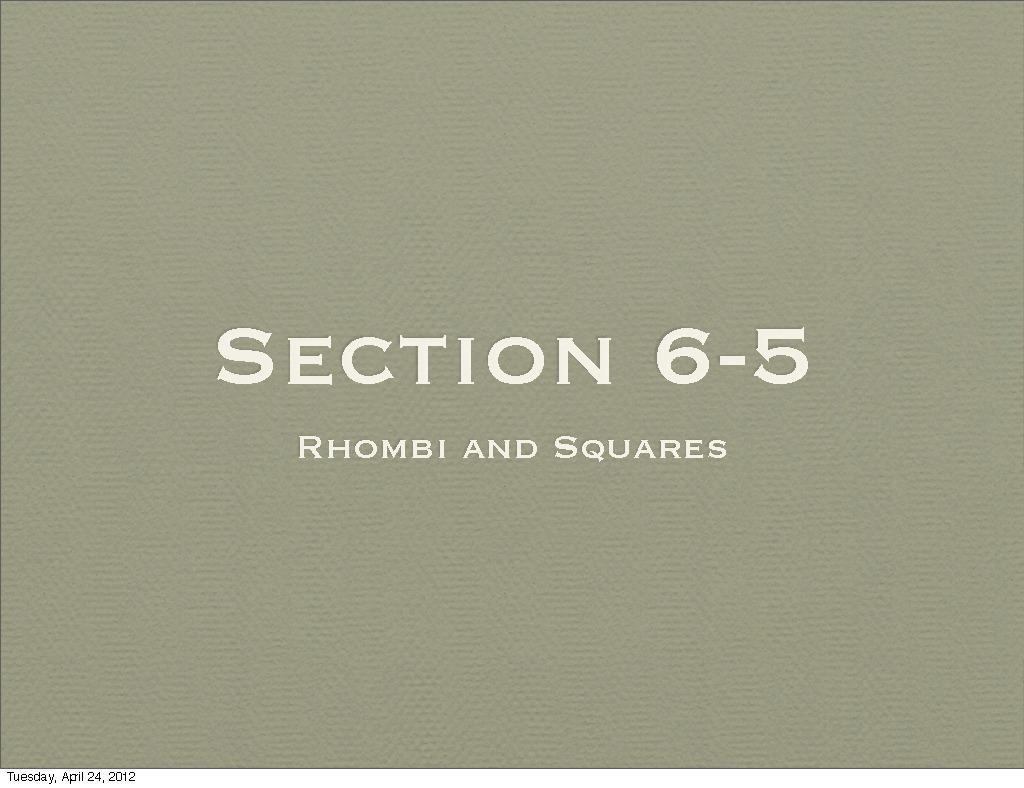title: (159, 274, 856, 488)
